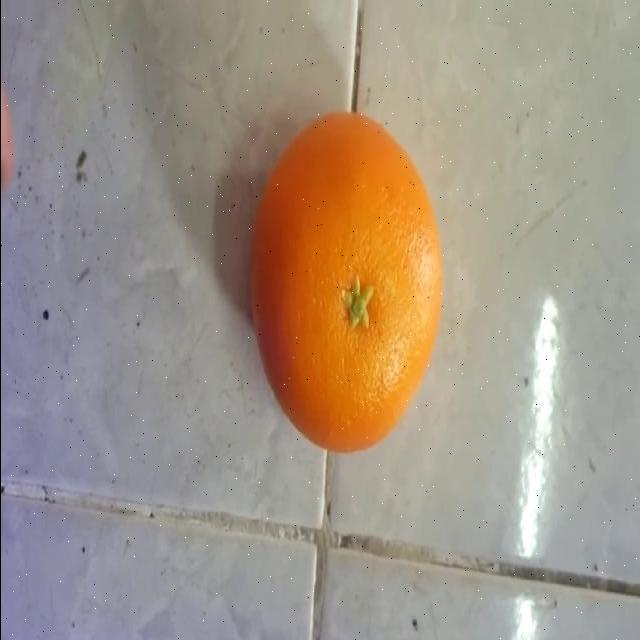Orange: (248, 111, 445, 454)
